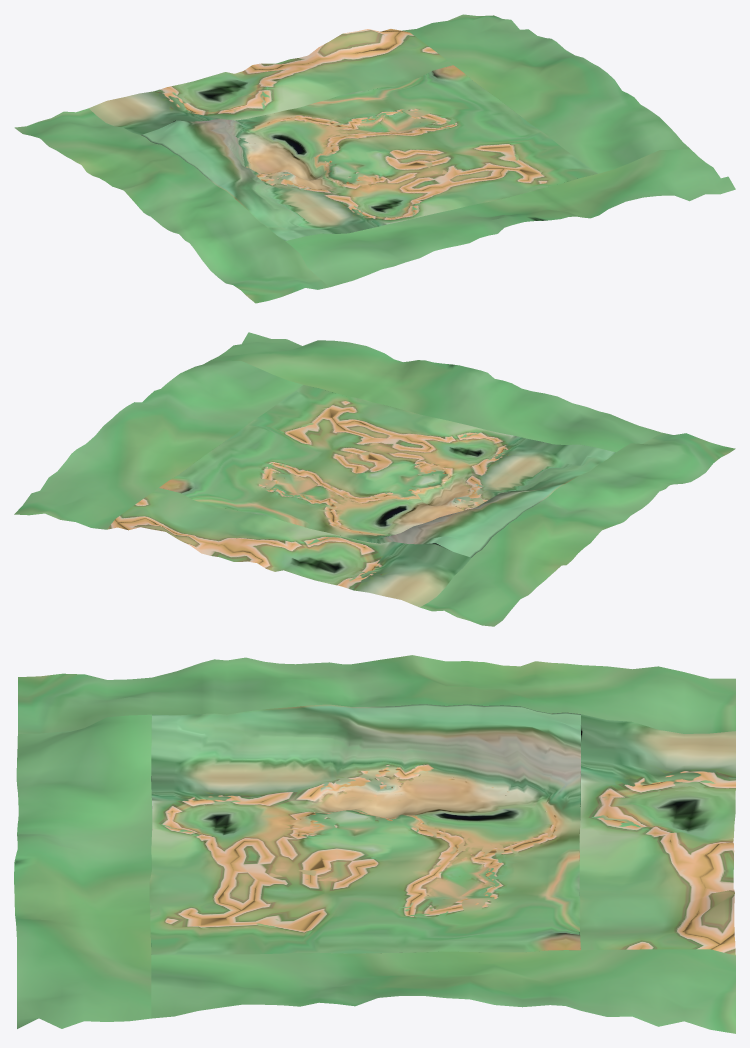
The model's file is river.glb.
The picture shows the model from 3 angles, top to bottom: view 1: azimuth 30°, elevation 25°; view 2: azimuth 150°, elevation 25°; view 3: azimuth 270°, elevation 25°; orthographic projection. The views are drawn at different scales.
Parts seen in each view (by area): view 1: ground.001; view 2: ground.001; view 3: ground.001.
Part boxes in pixels (box(x1,y1,x2,y2)): ground.001: box(14, 14, 735, 303); ground.001: box(14, 332, 735, 626); ground.001: box(14, 655, 735, 1033).
Size of the model in its own units: 154 by 9.48 by 135.
1 material, 1 textured.
